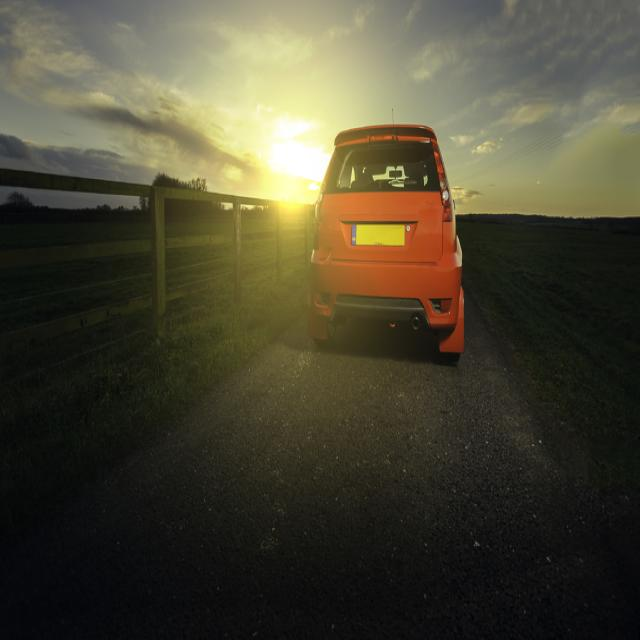car: (307, 106, 464, 355)
